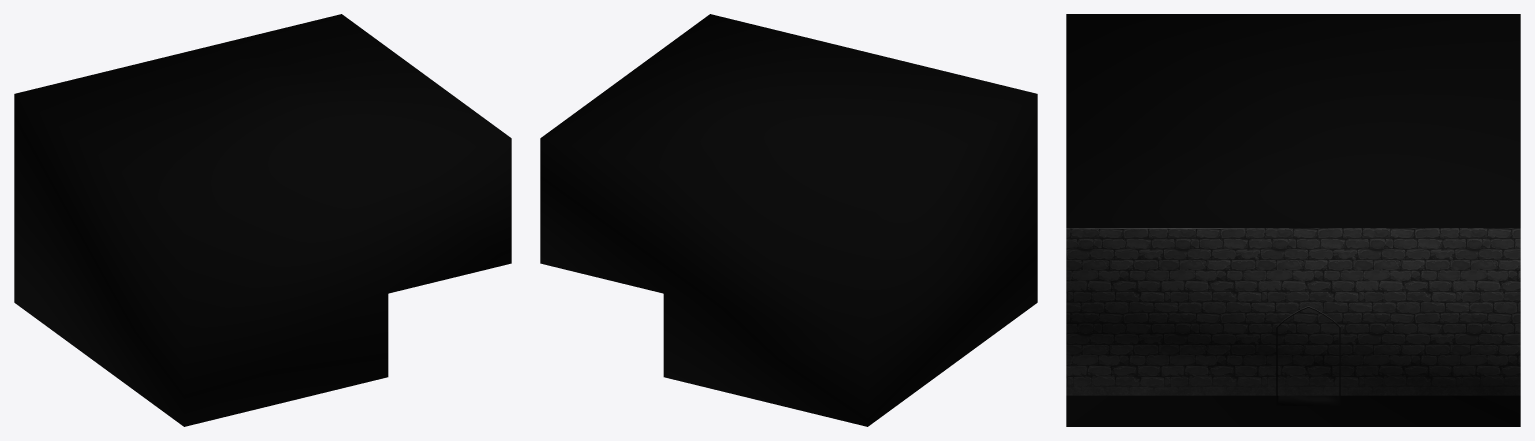
File: Enviro.fbx
The picture shows the model from 3 angles, left to right: view 1: azimuth 30°, elevation 25°; view 2: azimuth 150°, elevation 25°; view 3: azimuth 270°, elevation 25°; orthographic projection. The views are drawn at different scales.
Parts seen in each view (by area): view 1: Environment; view 2: Environment; view 3: Environment.
Part boxes in pixels (x1,y1,x2,y2): Environment: (14, 14, 511, 426); Environment: (540, 14, 1037, 426); Environment: (1066, 14, 1520, 426).
Bounding box in the file's own units: 37180 × 22621 × 33324.
4 materials, 4 textured.
